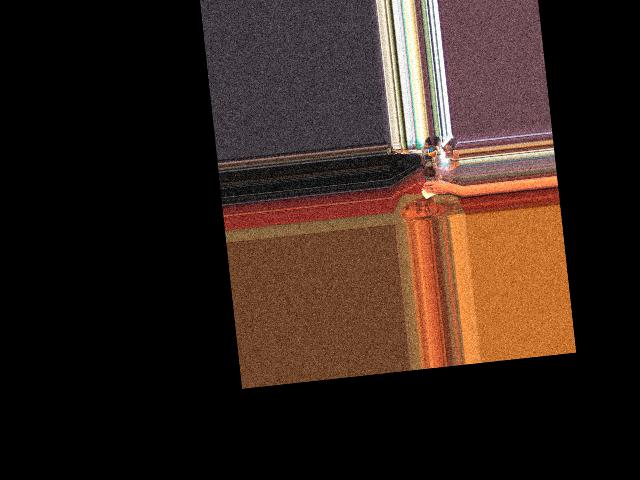beer: (421, 153, 436, 193)
